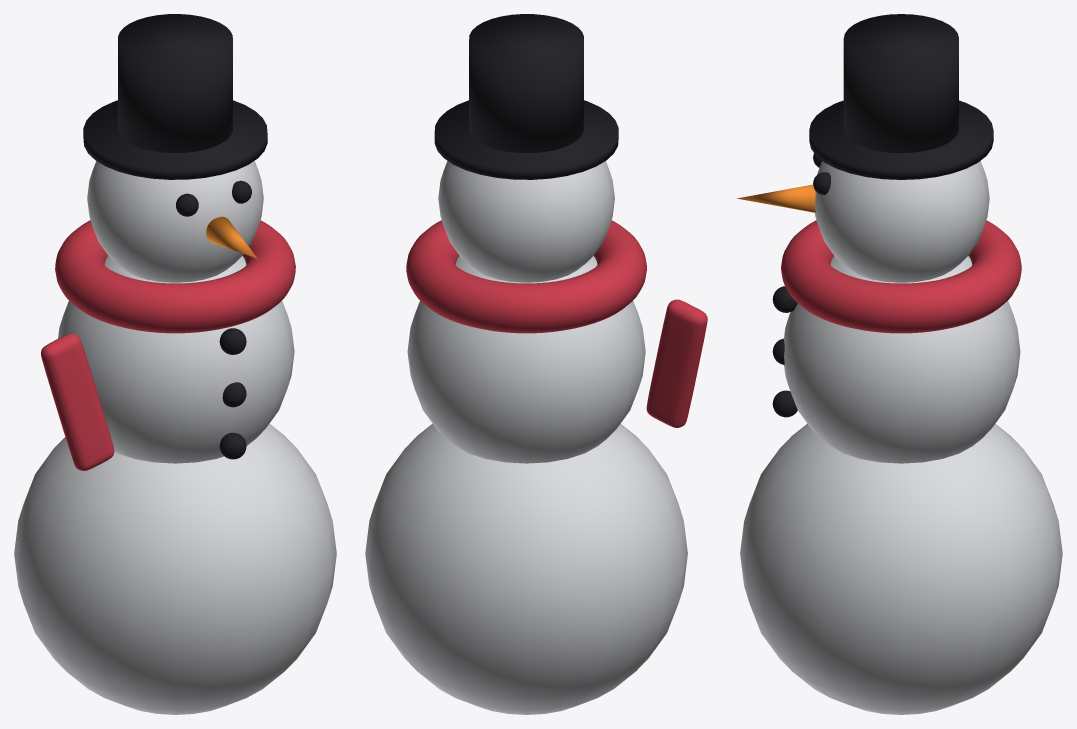
Rendered from plush_snowman.glb.
The picture shows the model from 3 angles, left to right: view 1: azimuth 30°, elevation 25°; view 2: azimuth 150°, elevation 25°; view 3: azimuth 270°, elevation 25°; orthographic projection.
Parts seen in each view (by area): view 1: base, brim, Torus, nose; view 2: base, brim, Torus; view 3: base, brim, Torus, nose.
Boxes of the visible parts, bbox=[...] form: base: bbox=[14, 161, 336, 714]; brim: bbox=[83, 14, 267, 459]; Torus: bbox=[41, 220, 295, 470]; nose: bbox=[206, 216, 257, 258]; base: bbox=[365, 161, 687, 714]; brim: bbox=[434, 14, 618, 179]; Torus: bbox=[406, 220, 707, 427]; base: bbox=[740, 161, 1062, 714]; brim: bbox=[772, 14, 993, 417]; Torus: bbox=[781, 220, 1021, 333]; nose: bbox=[736, 184, 815, 212].
Bounding box in the file's own units: 0.8904 × 1.9 × 0.85.
